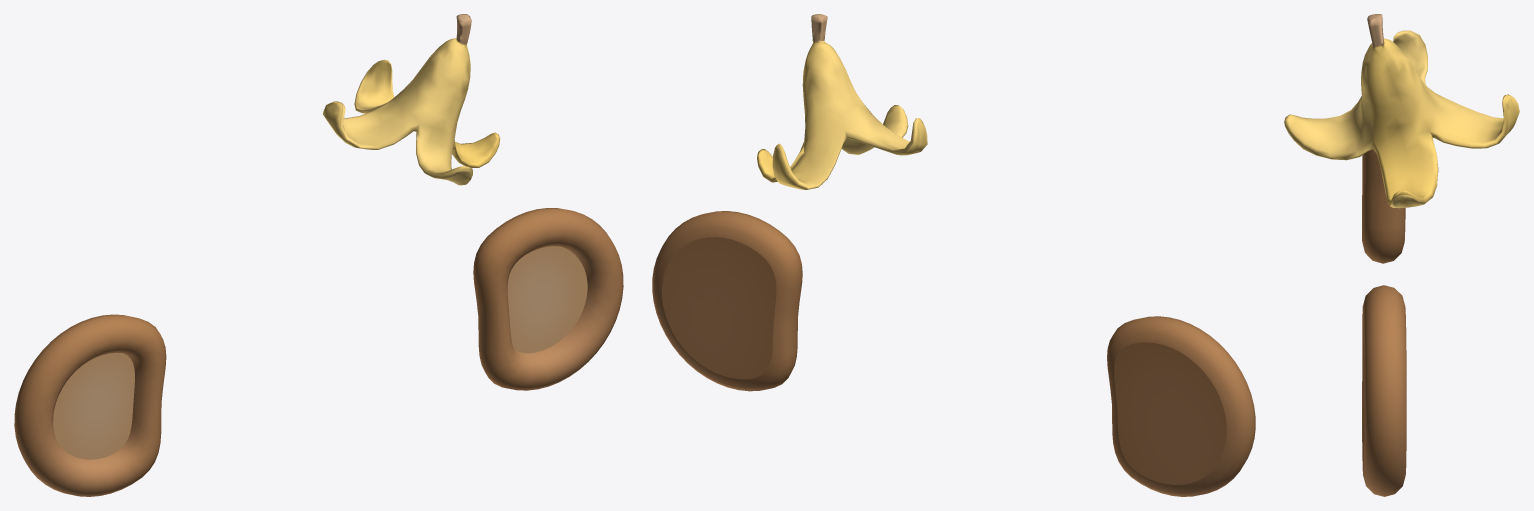
The model's file is 23-Monkey-Ears-with-banana-121179481037374.glb.
The picture shows the model from 3 angles, left to right: view 1: azimuth 30°, elevation 25°; view 2: azimuth 150°, elevation 25°; view 3: azimuth 270°, elevation 25°; orthographic projection. The views are drawn at different scales.
Visible parts, largest first — view 1: 23-Monkey-Ears-with-banana-121179481037374; view 2: 23-Monkey-Ears-with-banana-121179481037374; view 3: 23-Monkey-Ears-with-banana-121179481037374.
Part boxes in pixels (box(x1,y1,x2,y2)): 23-Monkey-Ears-with-banana-121179481037374: box(14, 14, 623, 496); 23-Monkey-Ears-with-banana-121179481037374: box(652, 14, 1255, 496); 23-Monkey-Ears-with-banana-121179481037374: box(1284, 14, 1519, 496).
Bounding box in the file's own units: 2.24 × 1.39 × 0.692.
1 material, 1 textured.
